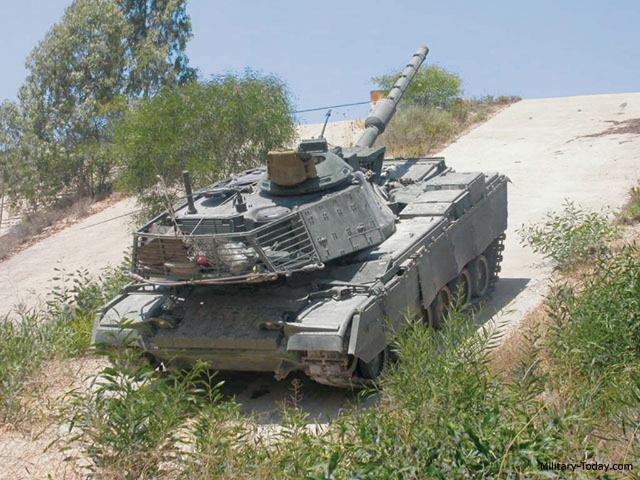tank: (105, 142, 511, 392)
